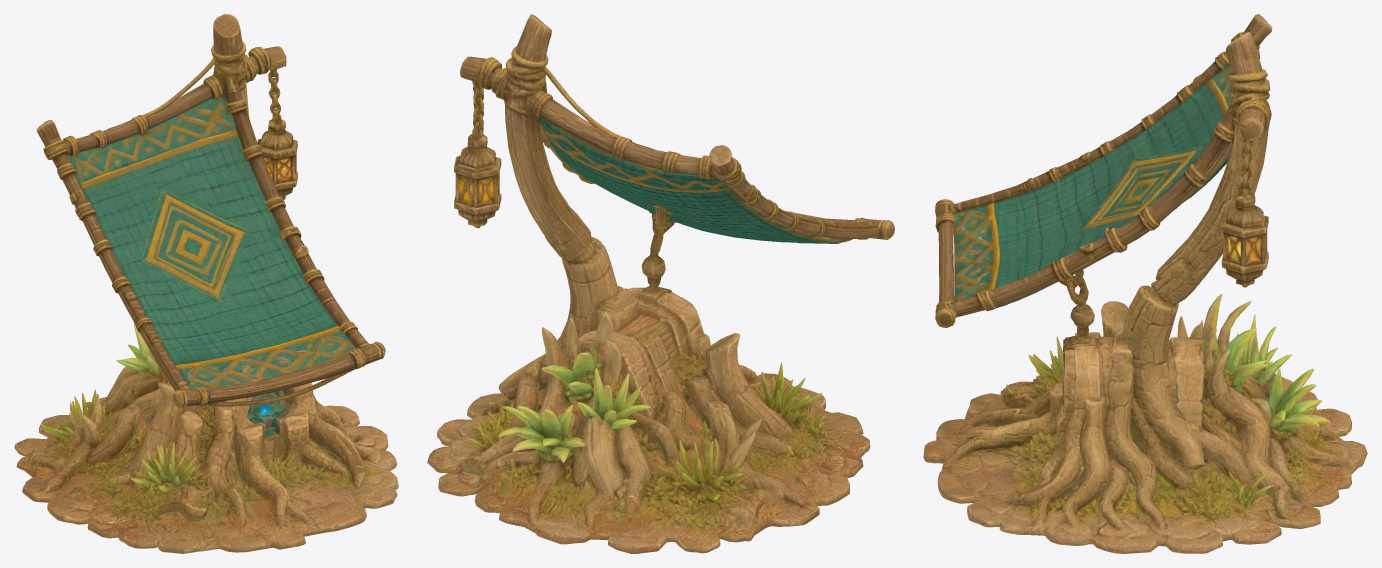
File: wind-catcher-sail.glb
3 renders of one model, left to right at view 1: azimuth 30°, elevation 25°; view 2: azimuth 150°, elevation 25°; view 3: azimuth 270°, elevation 25°, orthographic. The views are drawn at different scales.
Bounding box in the file's own units: 1.59 × 1.9 × 1.65.
Materials: 1 (1 with a texture image).
